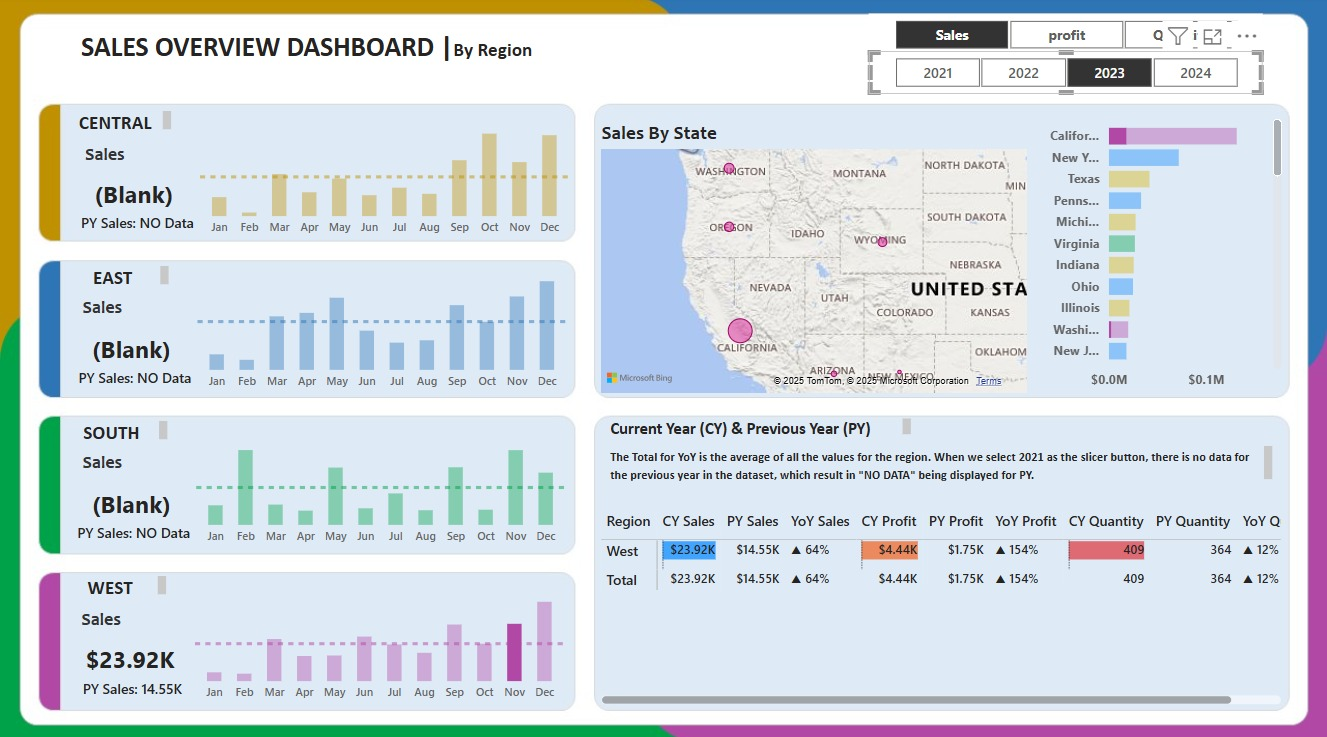

The page's visual inventory and layout, read from the dashboard file:
{"tool":"powerbi","page":{"name":"Page 1","canvas":[1280,720],"ordinal":0},"visuals":[{"type":"slicer","fields":{"Values":["Select Metric.Select Metric"]},"box":[838.4,16.5,380.1,37],"z":0},{"type":"card","fields":{"Values":["Sales Data.Total Sales"]},"box":[71.4,170.2,116.6,45.3],"z":1000},{"type":"textbox","box":[60.3,106.2,109.8,30.2],"z":2000},{"type":"slicer","fields":{"Values":["Calendar Table.Year"]},"box":[838.4,53.5,380.1,41.2],"z":3000},{"type":"card","fields":{"Values":["Sales Data.Dynamic Title"]},"box":[71.4,135.8,60.4,34.3],"z":4000},{"type":"card","fields":{"Values":["Sales Data.PY KPI Sales"]},"box":[67.2,203.1,130.4,37],"z":5000},{"type":"clusteredColumnChart","fields":{"Y":["Sales Data.Total Sales"],"Category":["Calendar Table.Month"]},"box":[188,105.7,366.4,134.5],"z":6000},{"type":"textbox","box":[37,27.4,517.3,50.8],"z":7000},{"type":"card","fields":{"Values":["Sales Data.Total Sales"]},"box":[69.3,319.6,116.6,45.3],"z":8000},{"type":"textbox","box":[58.2,255.6,109.8,30.2],"z":9000},{"type":"card","fields":{"Values":["Sales Data.Dynamic Title"]},"box":[69.3,285.3,60.4,34.3],"z":10000},{"type":"card","fields":{"Values":["Sales Data.PY KPI Sales"]},"box":[65.2,352.5,130.4,37],"z":11000},{"type":"clusteredColumnChart","fields":{"Y":["Sales Data.Total Sales"],"Category":["Calendar Table.Month"]},"box":[185.9,255.1,366.4,134.5],"z":12000},{"type":"card","fields":{"Values":["Sales Data.Total Sales"]},"box":[68.2,468.9,116.6,45.3],"z":13000},{"type":"textbox","box":[57.1,404.9,109.8,30.2],"z":14000},{"type":"card","fields":{"Values":["Sales Data.Dynamic Title"]},"box":[68.2,434.6,60.4,34.3],"z":15000},{"type":"card","fields":{"Values":["Sales Data.PY KPI Sales"]},"box":[64.1,501.8,130.4,37],"z":16000},{"type":"clusteredColumnChart","fields":{"Y":["Sales Data.Total Sales"],"Category":["Calendar Table.Month"]},"box":[184.8,404.4,366.4,134.5],"z":17000},{"type":"card","fields":{"Values":["Sales Data.Total Sales"]},"box":[67.1,619.3,116.6,45.3],"z":18000},{"type":"textbox","box":[56.1,555.3,109.8,30.2],"z":19000},{"type":"card","fields":{"Values":["Sales Data.Dynamic Title"]},"box":[67.1,585,60.4,34.3],"z":20000},{"type":"card","fields":{"Values":["Sales Data.PY KPI Sales"]},"box":[63,652.2,130.4,37],"z":21000},{"type":"clusteredColumnChart","fields":{"Y":["Sales Data.Total Sales"],"Category":["Calendar Table.Month"]},"box":[183.7,554.8,366.4,134.5],"z":22000},{"type":"map","title":"Sales By State","fields":{"Size":["Sales Data.Total Sales"],"Category":["Sales Data.State/Province"],"Series":["Sales Data.Region"]},"box":[575,120.8,421.3,267.6],"z":23000},{"type":"barChart","fields":{"Y":["Sales Data.Total Sales"],"Category":["Sales Data.State/Province"],"Series":["Sales Data.Region"]},"box":[996.2,105.7,245.6,282.7],"z":24000},{"type":"pivotTable","fields":{"Rows":["Sales Data.Region"],"Values":["Sales Data.CY Sales","Sales Data.PY Sales","Sales Data.YoY Sales","Sales Data.CY Profit","Sales Data.PY Profit","Sales Data.YoY Profit","Sales Data.CY Quantity","Sales Data.PY Quantity","Sales Data.YoY Quantity"]},"box":[575.5,491,666,197.9],"z":25000},{"type":"textbox","box":[583.9,403,300.4,31.4],"z":26000},{"type":"textbox","box":[583.9,429.5,649.1,43.4],"z":27000}]}

Visuals, with their boxes in screenshot pixels (x1, y1, x2, y2), scaled from the page's 1280x720 canvas onto the 1327x737 screenshot:
slicer - Select Metric.Select Metric: (869, 17, 1263, 55)
card - Sales Data.Total Sales: (74, 174, 195, 221)
textbox: (63, 109, 176, 140)
slicer - Calendar Table.Year: (869, 55, 1263, 97)
card - Sales Data.Dynamic Title: (74, 139, 137, 174)
card - Sales Data.PY KPI Sales: (70, 208, 205, 246)
clusteredColumnChart - Sales Data.Total Sales x Calendar Table.Month: (195, 108, 575, 246)
textbox: (38, 28, 575, 80)
card - Sales Data.Total Sales: (72, 327, 193, 374)
textbox: (60, 262, 174, 293)
card - Sales Data.Dynamic Title: (72, 292, 134, 327)
card - Sales Data.PY KPI Sales: (68, 361, 203, 399)
clusteredColumnChart - Sales Data.Total Sales x Calendar Table.Month: (193, 261, 573, 399)
card - Sales Data.Total Sales: (71, 480, 192, 526)
textbox: (59, 414, 173, 445)
card - Sales Data.Dynamic Title: (71, 445, 133, 480)
card - Sales Data.PY KPI Sales: (66, 514, 202, 552)
clusteredColumnChart - Sales Data.Total Sales x Calendar Table.Month: (192, 414, 571, 552)
card - Sales Data.Total Sales: (70, 634, 190, 680)
textbox: (58, 568, 172, 599)
card - Sales Data.Dynamic Title: (70, 599, 132, 634)
card - Sales Data.PY KPI Sales: (65, 668, 201, 705)
clusteredColumnChart - Sales Data.Total Sales x Calendar Table.Month: (190, 568, 570, 706)
"Sales By State" map: (596, 124, 1033, 398)
barChart - Sales Data.Total Sales x Sales Data.State/Province: (1033, 108, 1287, 398)
pivotTable - Sales Data.Region x Sales Data.CY Sales: (597, 503, 1287, 705)
textbox: (605, 413, 917, 445)
textbox: (605, 440, 1278, 484)
